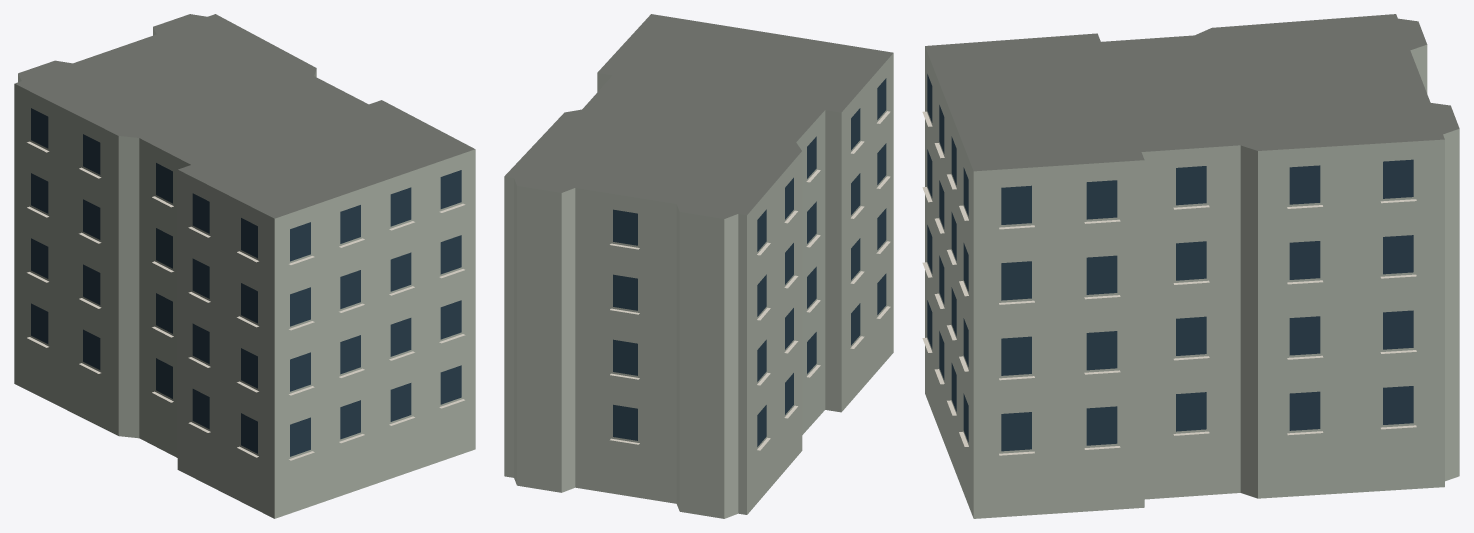
The picture shows the model from 3 angles, left to right: view 1: azimuth 30°, elevation 25°; view 2: azimuth 150°, elevation 25°; view 3: azimuth 270°, elevation 25°; orthographic projection. The views are drawn at different scales.
Visible parts, largest first — view 1: Footprint 0, Inferred window bays, Window sills; view 2: Footprint 0, Inferred window bays, Window sills; view 3: Footprint 0, Inferred window bays, Window sills.
Part boxes in pixels (left/top/right/bottom): Footprint 0: left=14, top=14, right=475, bottom=518; Inferred window bays: left=31, top=108, right=461, bottom=456; Window sills: left=27, top=141, right=465, bottom=460; Footprint 0: left=504, top=14, right=893, bottom=518; Inferred window bays: left=613, top=78, right=886, bottom=446; Window sills: left=610, top=111, right=890, bottom=450; Footprint 0: left=925, top=14, right=1459, bottom=518; Inferred window bays: left=927, top=74, right=1413, bottom=451; Window sills: left=922, top=111, right=1416, bottom=455.
Bounding box in the file's own units: 15 × 15.34 × 21.49.
